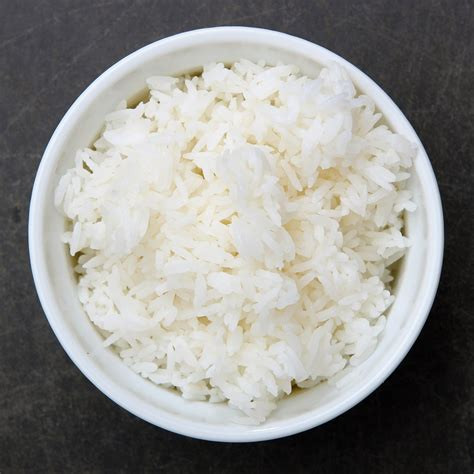rice: (79, 87, 385, 370)
